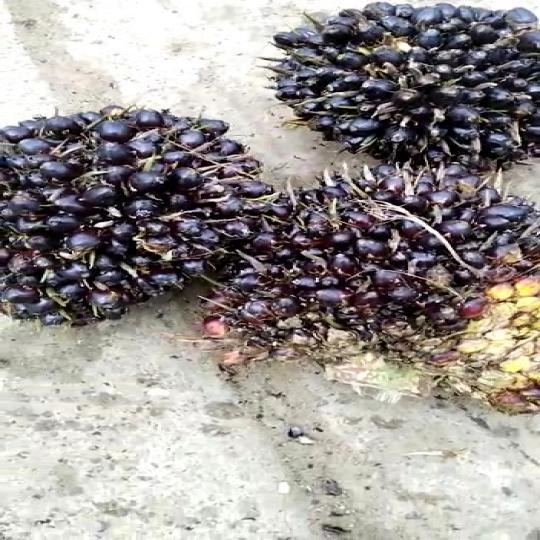mentah: (209, 172, 540, 421), (0, 83, 275, 332), (252, 2, 540, 177)
